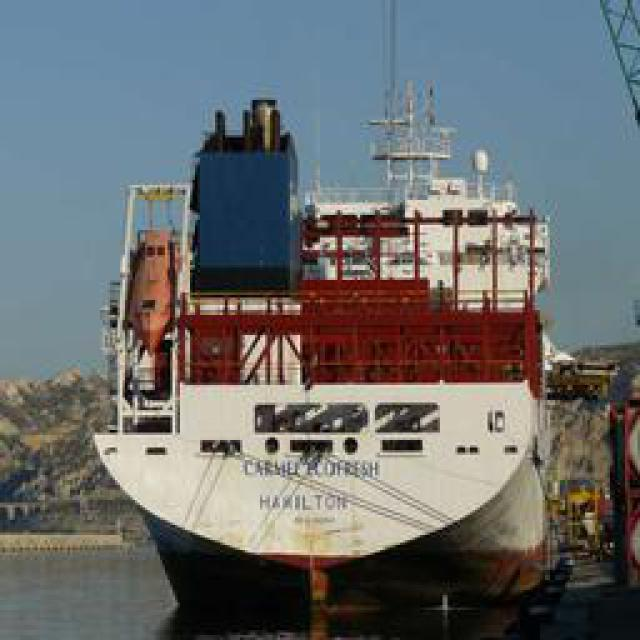Ship: (106, 73, 556, 621)
